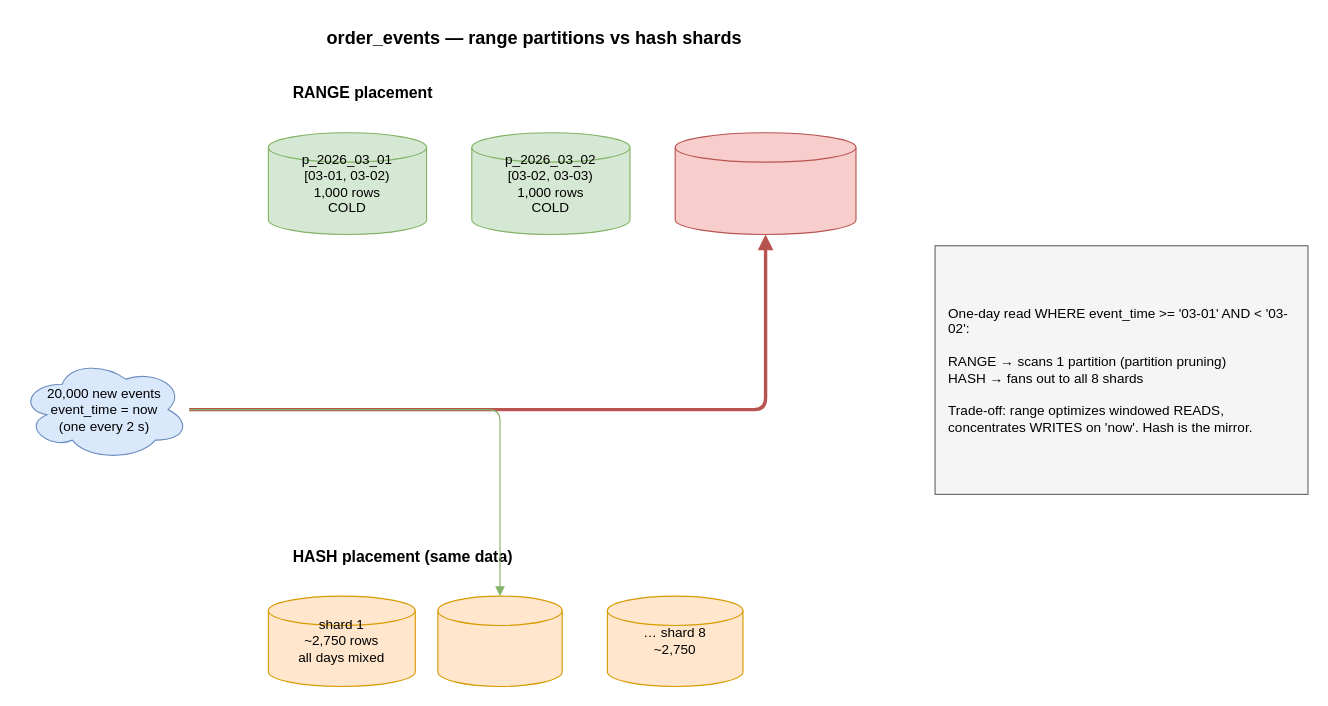
The diagram is 1328 pixels wide and 706 high, and some of its shapes have lost their labels. Here are the shapes that lost their labels. From the top down, the box of each, then its label:
(674, 132, 856, 234): p_2026_03_03 [03-03, MAXVALUE) 20,000 rows HOT — all writes
(437, 595, 562, 686): shard 2 ~2,750
